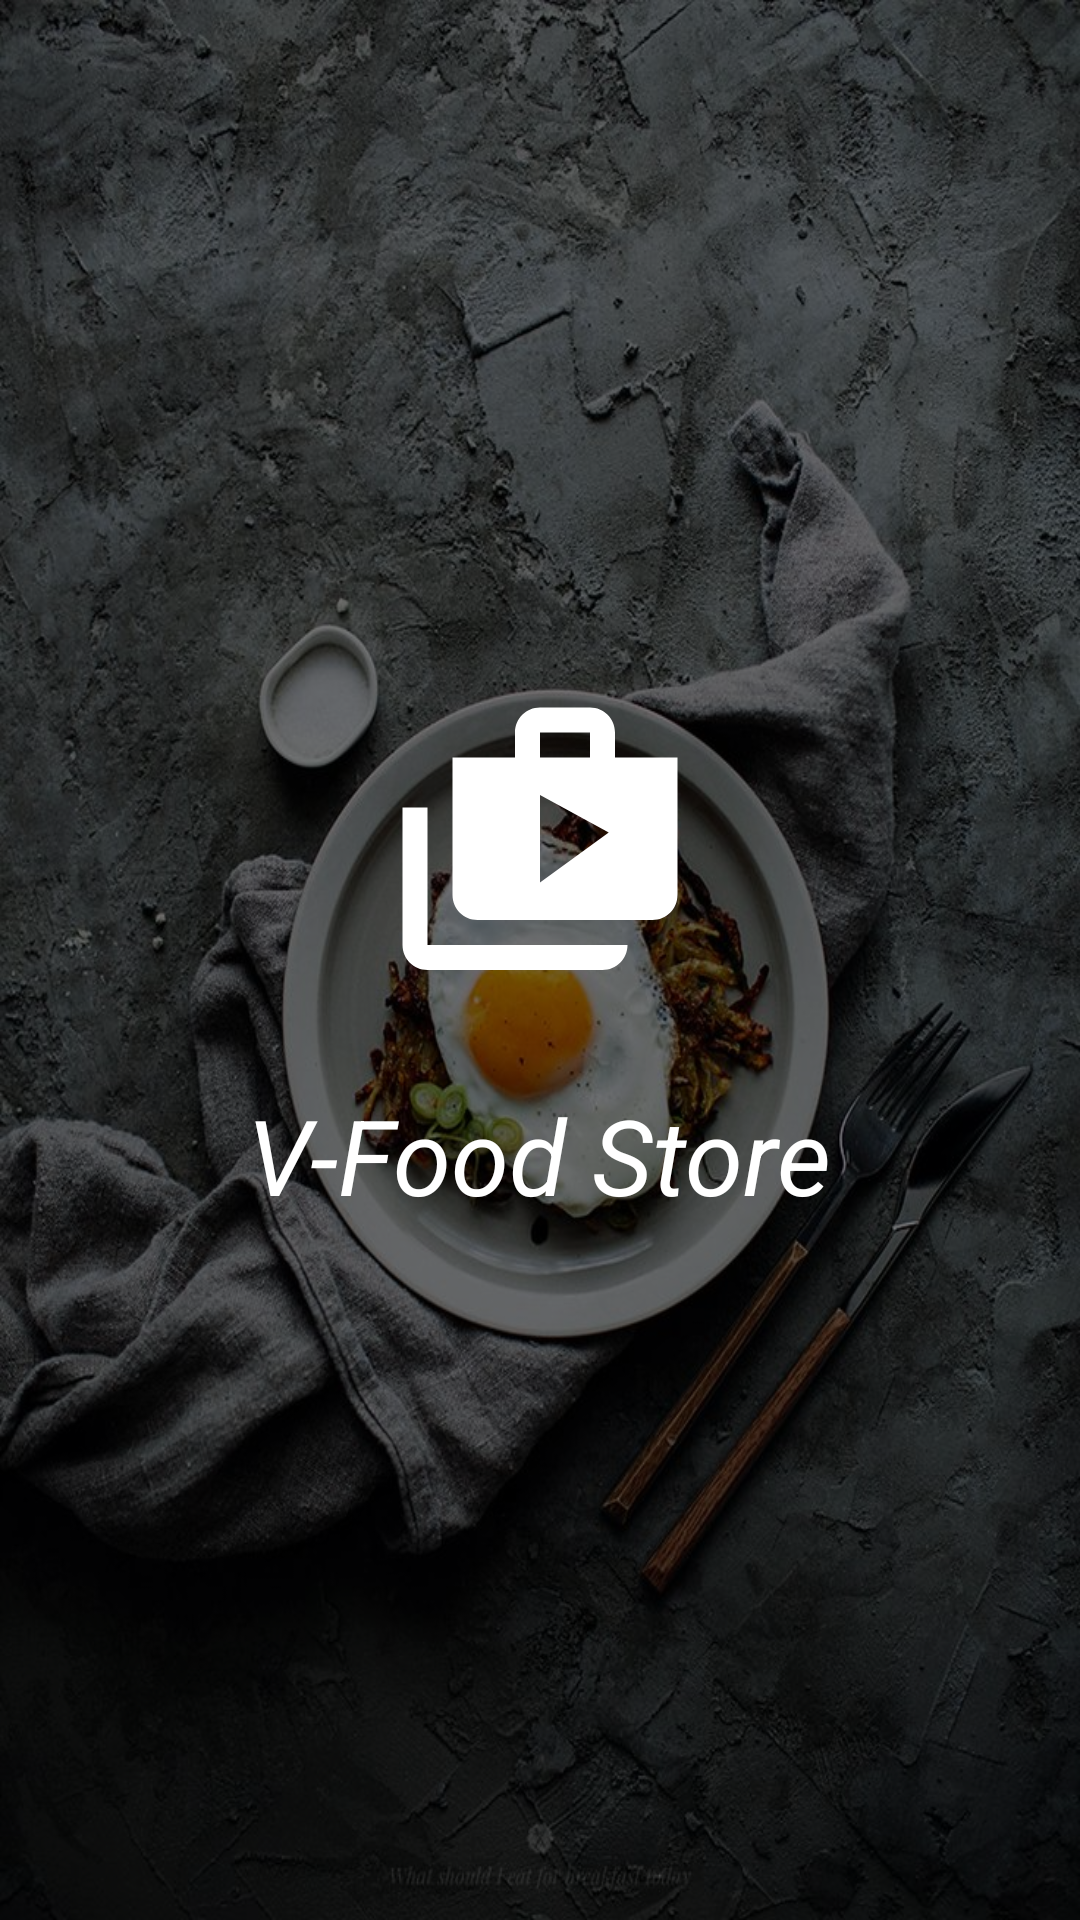

Icons on this 1080 x 1920 Android screen, each with the point to tap as [x,y]:
shop two: [540,845]
